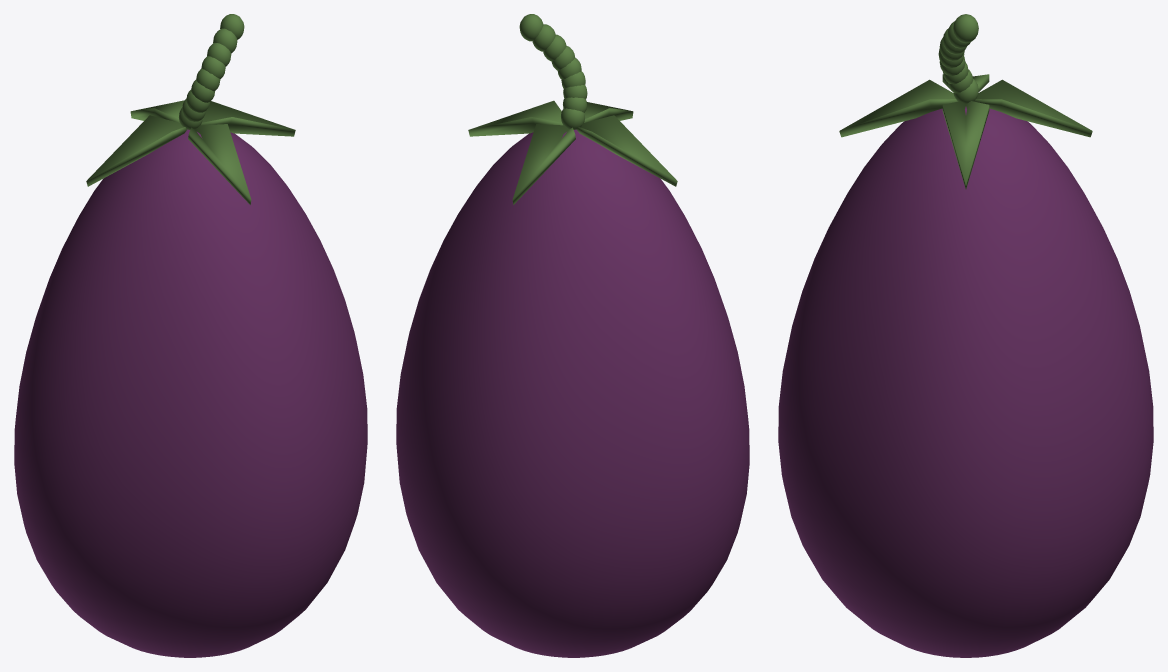
Rendered from rainbow_violet.glb.
3 views of the same model, side by side, from view 1: azimuth 30°, elevation 25°; view 2: azimuth 150°, elevation 25°; view 3: azimuth 270°, elevation 25° (orthographic). The views are drawn at different scales.
Parts seen in each view (by area): view 1: violet archive violet heirloom skin, violet archive Archive calyx; view 2: violet archive violet heirloom skin, violet archive Archive calyx; view 3: violet archive violet heirloom skin, violet archive Archive calyx.
Part boxes in pixels (bbox=[...]): violet archive violet heirloom skin: bbox=[14, 129, 367, 657]; violet archive Archive calyx: bbox=[86, 14, 295, 204]; violet archive violet heirloom skin: bbox=[396, 129, 749, 657]; violet archive Archive calyx: bbox=[468, 14, 677, 204]; violet archive violet heirloom skin: bbox=[778, 106, 1153, 657]; violet archive Archive calyx: bbox=[839, 14, 1092, 189].
Bounding box in the file's own units: 0.9239 × 1.72 × 0.9029.
